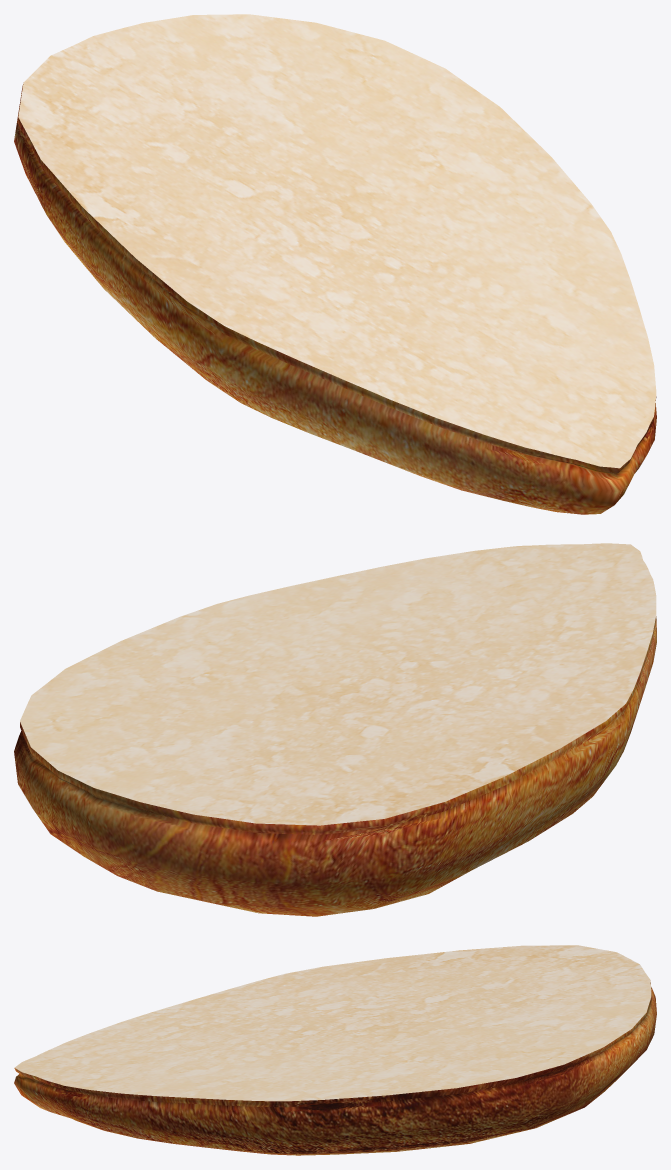
File: almonds.glb
3 views of the same model, one above another, from view 1: azimuth 30°, elevation 25°; view 2: azimuth 150°, elevation 25°; view 3: azimuth 270°, elevation 25° (orthographic). The views are drawn at different scales.
Parts seen in each view (by area): view 1: Box001_01 - Default_0; view 2: Box001_01 - Default_0; view 3: Box001_01 - Default_0.
Part boxes in pixels (x1=…): Box001_01 - Default_0: x1=14, y1=14, x2=656, y2=514; Box001_01 - Default_0: x1=14, y1=543, x2=656, y2=916; Box001_01 - Default_0: x1=14, y1=945, x2=656, y2=1155.
Size of the model in its own units: 0.0944 by 0.0446 by 0.1851.
Materials: 2 (2 with a texture image).
